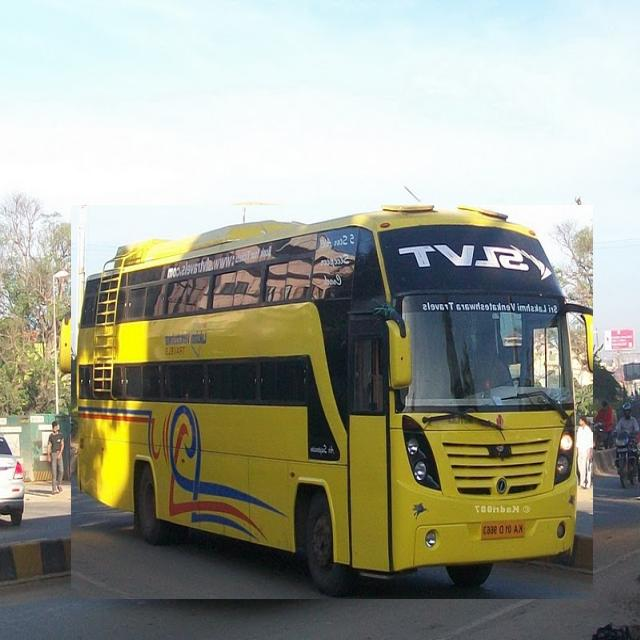bus: (72, 205, 593, 599)
